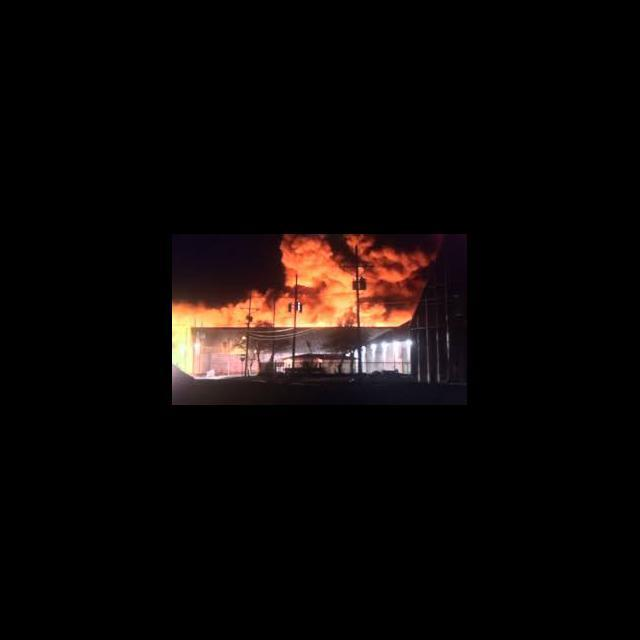Fire: (173, 235, 425, 376)
